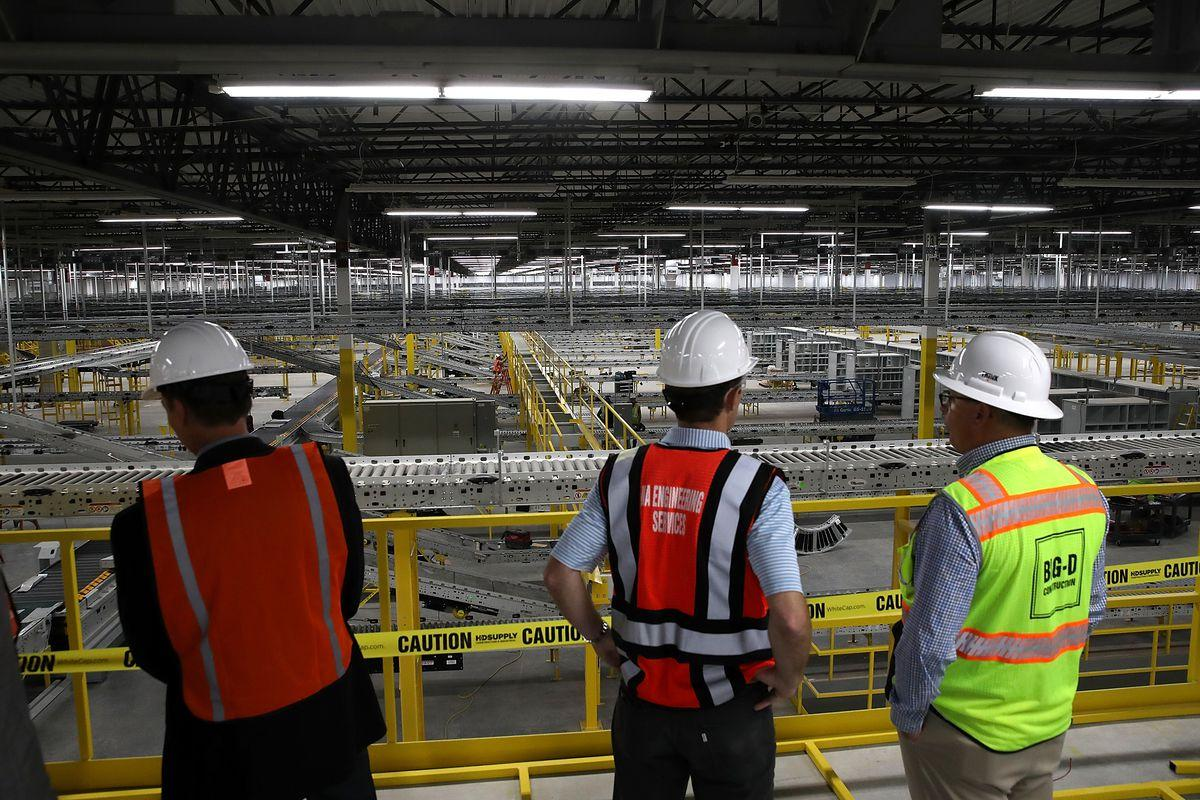helmet: (931, 331, 1067, 425), (655, 309, 764, 389), (141, 319, 252, 396)
